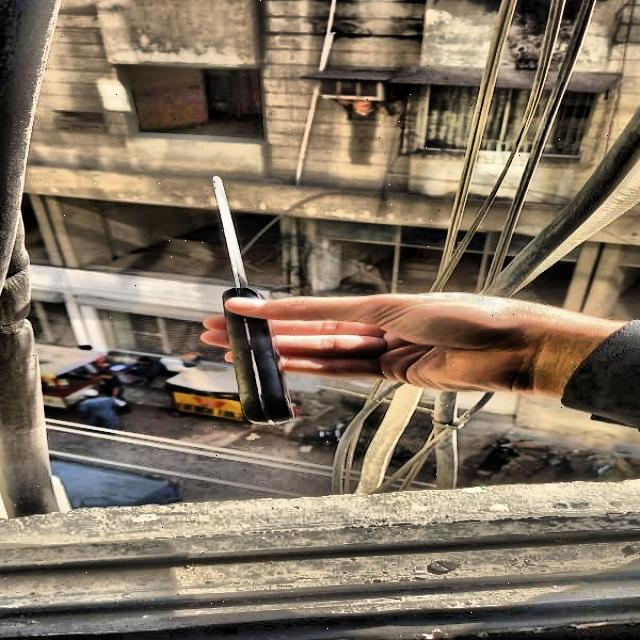knife: (214, 176, 293, 424)
